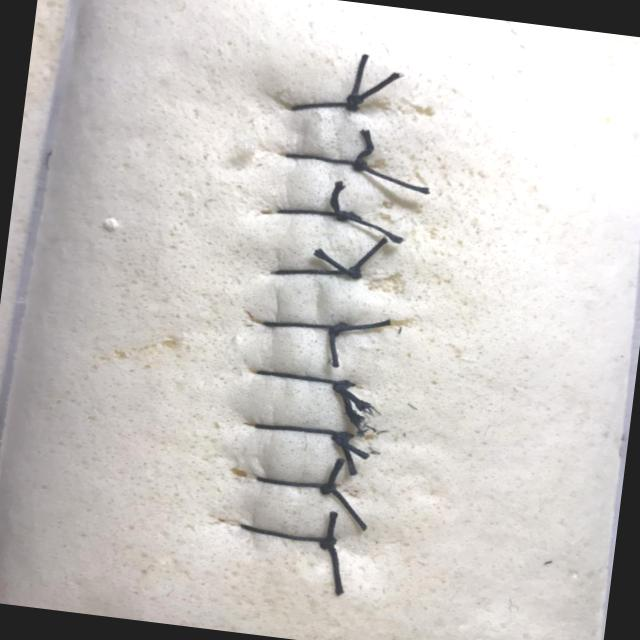knot: (332, 432, 354, 446), (332, 380, 355, 393), (329, 323, 350, 336), (335, 211, 360, 221), (347, 95, 362, 111), (320, 537, 336, 549), (345, 266, 360, 278), (353, 160, 368, 171), (320, 483, 335, 494)
leftover: (355, 160, 430, 193), (326, 484, 368, 532), (342, 213, 404, 245), (348, 71, 401, 103), (346, 236, 388, 275), (335, 380, 362, 424), (324, 538, 343, 597), (311, 247, 352, 274), (348, 51, 368, 104), (335, 380, 367, 410), (338, 431, 370, 459), (337, 431, 355, 477), (330, 178, 349, 217), (354, 128, 373, 165), (327, 325, 342, 369), (339, 319, 392, 331), (327, 456, 343, 489), (326, 509, 336, 543)
stitch: (237, 522, 339, 544), (253, 369, 357, 387), (251, 423, 356, 438), (253, 475, 337, 490), (282, 153, 369, 166), (287, 98, 365, 112), (273, 208, 361, 219), (258, 321, 352, 331), (271, 268, 363, 275)
wound: (289, 80, 338, 561)
